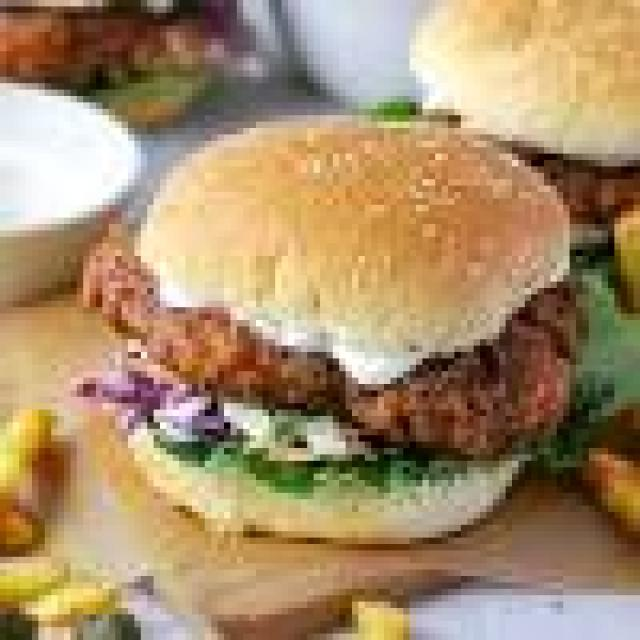Burger: (148, 157, 588, 522)
